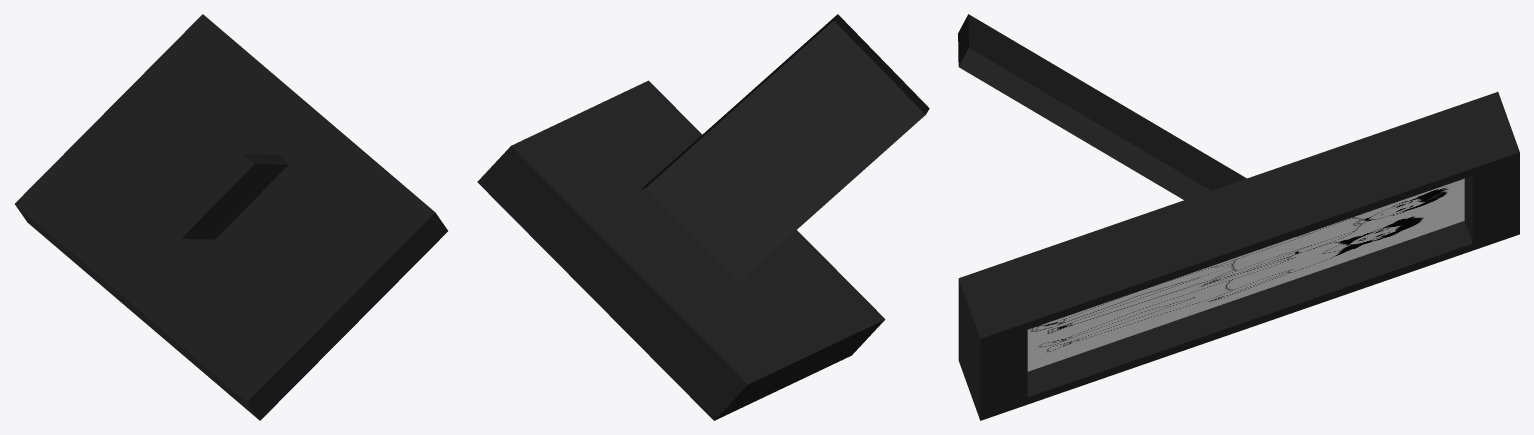
The model's file is Photo.fbx.
The picture shows the model from 3 angles, left to right: view 1: azimuth 30°, elevation 25°; view 2: azimuth 150°, elevation 25°; view 3: azimuth 270°, elevation 25°; orthographic projection. The views are drawn at different scales.
Parts seen in each view (by area): view 1: Photo_Frame.002; view 2: Photo_Frame.002; view 3: Photo_Frame.002.
Boxes of the visible parts, x1,y1,x2,y2 form: Photo_Frame.002: (15,14,447,420); Photo_Frame.002: (477,14,929,420); Photo_Frame.002: (958,14,1519,420).
Size of the model in its own units: 150 by 141 by 172.
